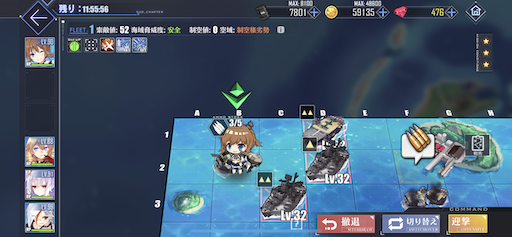lv1: (303, 136, 347, 184)
lv2: (256, 170, 305, 220), (300, 105, 344, 140)
